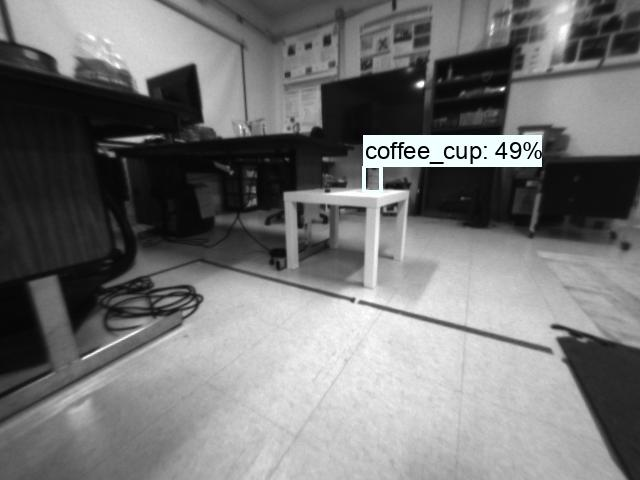coffee_cup: (364, 167, 383, 191)
